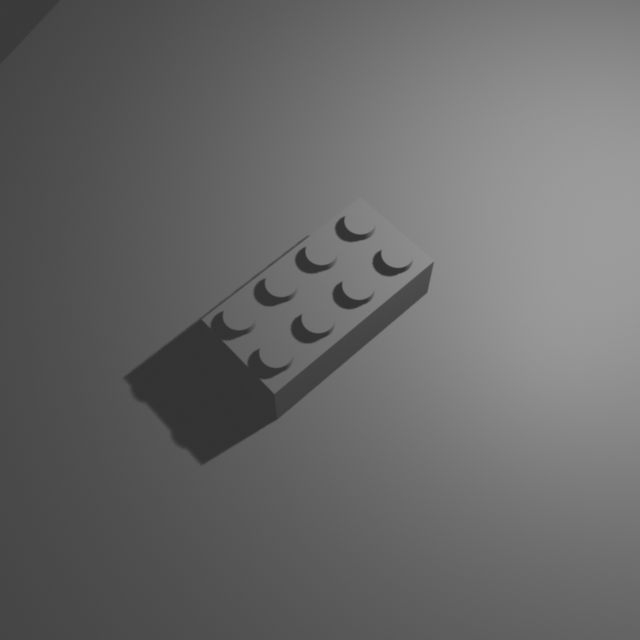lego_2x4: (200, 191, 436, 420)
